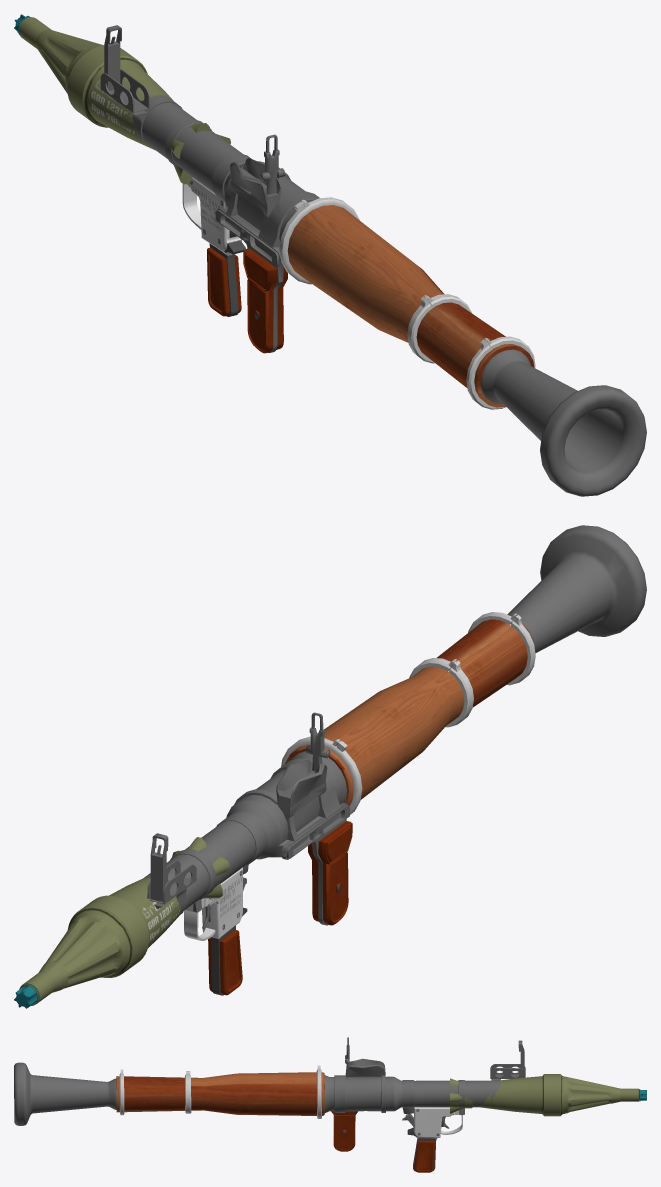
The model's file is rpg7.glb.
3 views of the same model, one above another, from view 1: azimuth 30°, elevation 25°; view 2: azimuth 150°, elevation 25°; view 3: azimuth 270°, elevation 25° (orthographic). The views are drawn at different scales.
Parts seen in each view (by area): view 1: pCube12_black_metal_0, pCube12_wood_0, pCylinder8_rocket_0, pCube12_plastek_0, pCube12_bast_0, pCube12_with_metal_0; view 2: pCube12_black_metal_0, pCube12_wood_0, pCylinder8_rocket_0, pCube12_plastek_0, pCube12_bast_0, pCube12_with_metal_0; view 3: pCube12_black_metal_0, pCube12_wood_0, pCylinder8_rocket_0, pCube12_plastek_0, pCube12_with_metal_0, pCube12_bast_0.
Part boxes in pixels (x1,y1,x2,y2): pCube12_black_metal_0: [100, 25, 646, 496]; pCube12_wood_0: [287, 205, 534, 407]; pCylinder8_rocket_0: [14, 14, 230, 184]; pCube12_plastek_0: [207, 247, 287, 353]; pCube12_bast_0: [279, 197, 535, 409]; pCube12_with_metal_0: [182, 177, 245, 316]; pCube12_black_metal_0: [143, 525, 646, 928]; pCube12_wood_0: [285, 619, 533, 805]; pCylinder8_rocket_0: [14, 837, 229, 1008]; pCube12_plastek_0: [208, 821, 352, 995]; pCube12_bast_0: [281, 612, 535, 814]; pCube12_with_metal_0: [184, 867, 247, 995]; pCube12_black_metal_0: [14, 1037, 525, 1146]; pCube12_wood_0: [116, 1072, 324, 1115]; pCylinder8_rocket_0: [450, 1074, 646, 1116]; pCube12_plastek_0: [331, 1111, 435, 1172]; pCube12_with_metal_0: [407, 1107, 462, 1170]; pCube12_bast_0: [119, 1065, 321, 1118].
Bounding box in the file's own units: 0.1276 × 0.281 × 1.27.
Materials: 6 (5 with a texture image).
